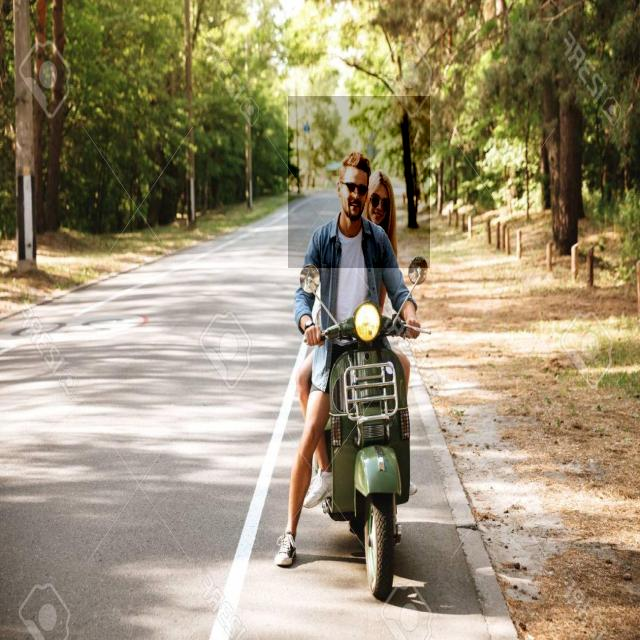No_Helmet: (288, 96, 430, 268)
